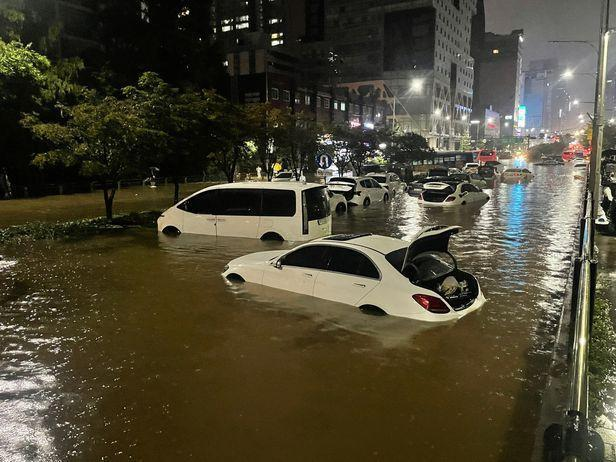water: (0, 161, 584, 459), (593, 238, 615, 430), (0, 187, 102, 221), (112, 178, 178, 217), (180, 180, 229, 200)
